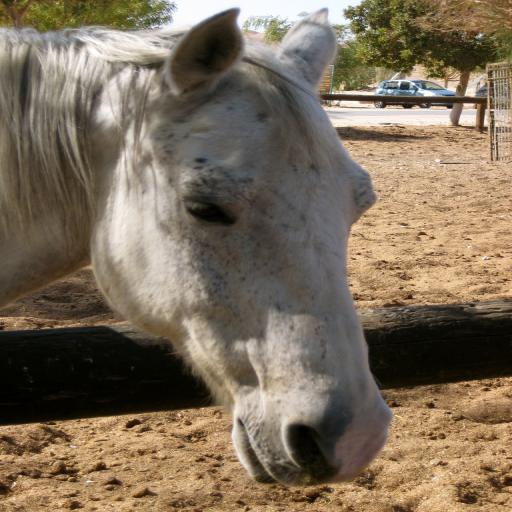horse: (0, 6, 394, 488)
